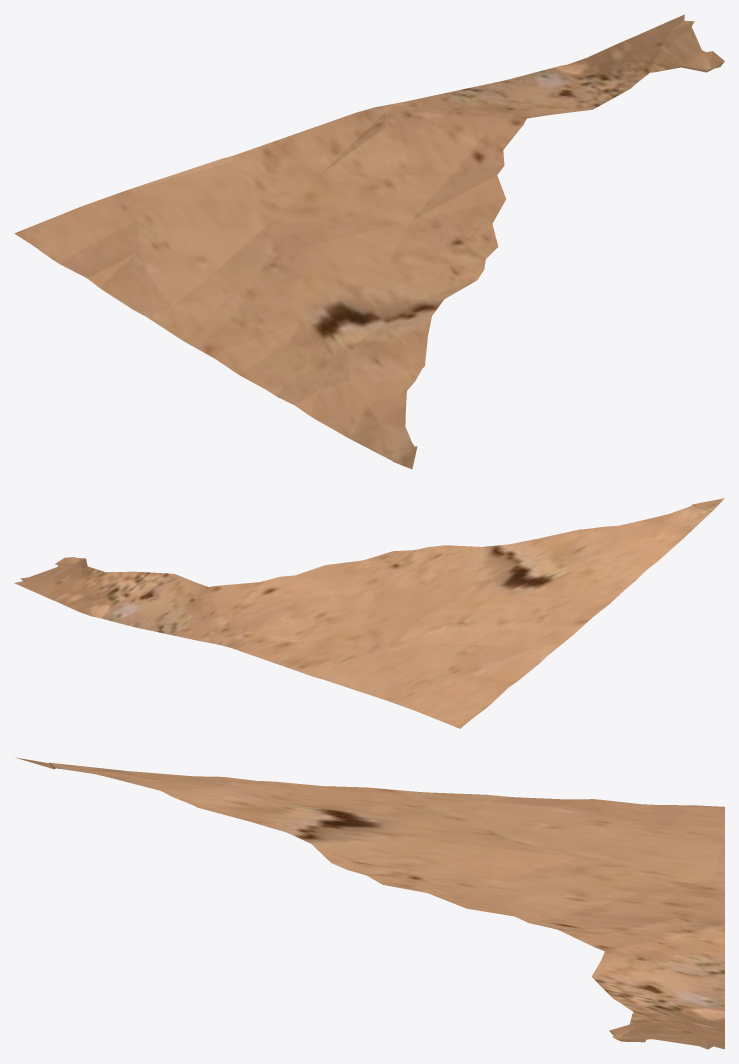
3 views of the same model, one above another, from view 1: azimuth 30°, elevation 25°; view 2: azimuth 150°, elevation 25°; view 3: azimuth 270°, elevation 25° (orthographic). The views are drawn at different scales.
Bounding box in the file's own units: 0.7987 × 0.0631 × 0.8211.
Materials: 1 (1 with a texture image).
